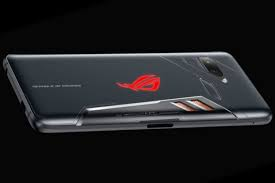asus: (4, 45, 274, 132)
